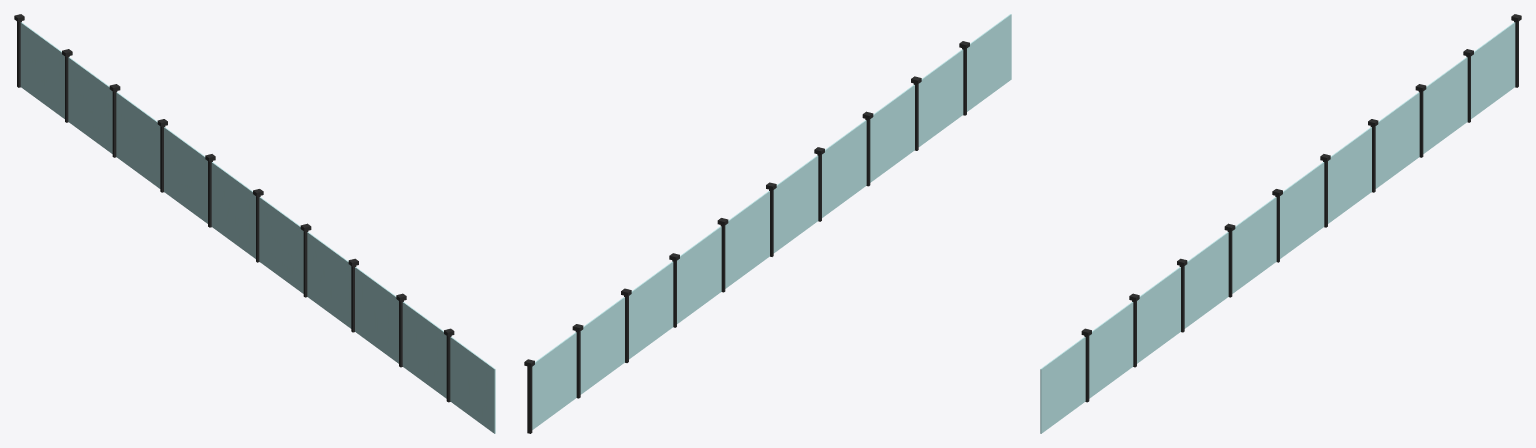
File: Balcony.019.fbx
3 views of the same model, side by side, from view 1: azimuth 30°, elevation 25°; view 2: azimuth 150°, elevation 25°; view 3: azimuth 330°, elevation 25° (orthographic).
Parts seen in each view (by area): view 1: Balcony.019; view 2: Balcony.019; view 3: Balcony.019.
Boxes of the visible parts, box(x1,y1,x2,y2) form: Balcony.019: box(14, 14, 495, 433); Balcony.019: box(524, 14, 1011, 433); Balcony.019: box(1040, 14, 1521, 433).
Size of the model in its own units: 44.44 by 437 by 5343.
